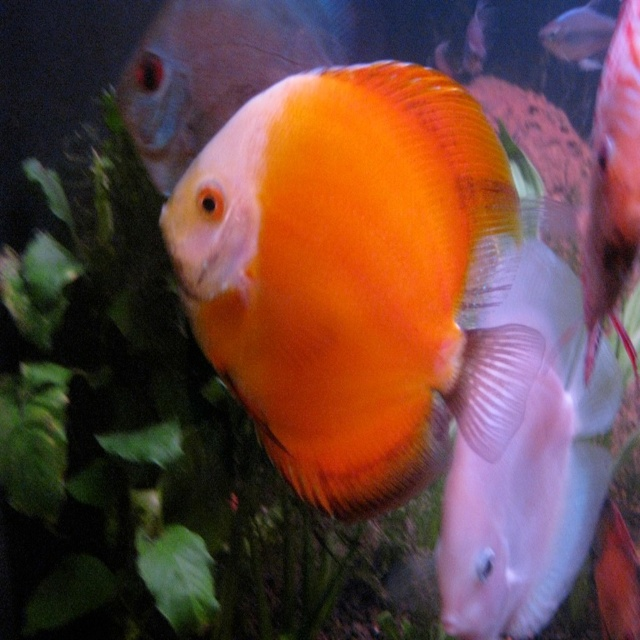Goldfish: (148, 106, 588, 516)
